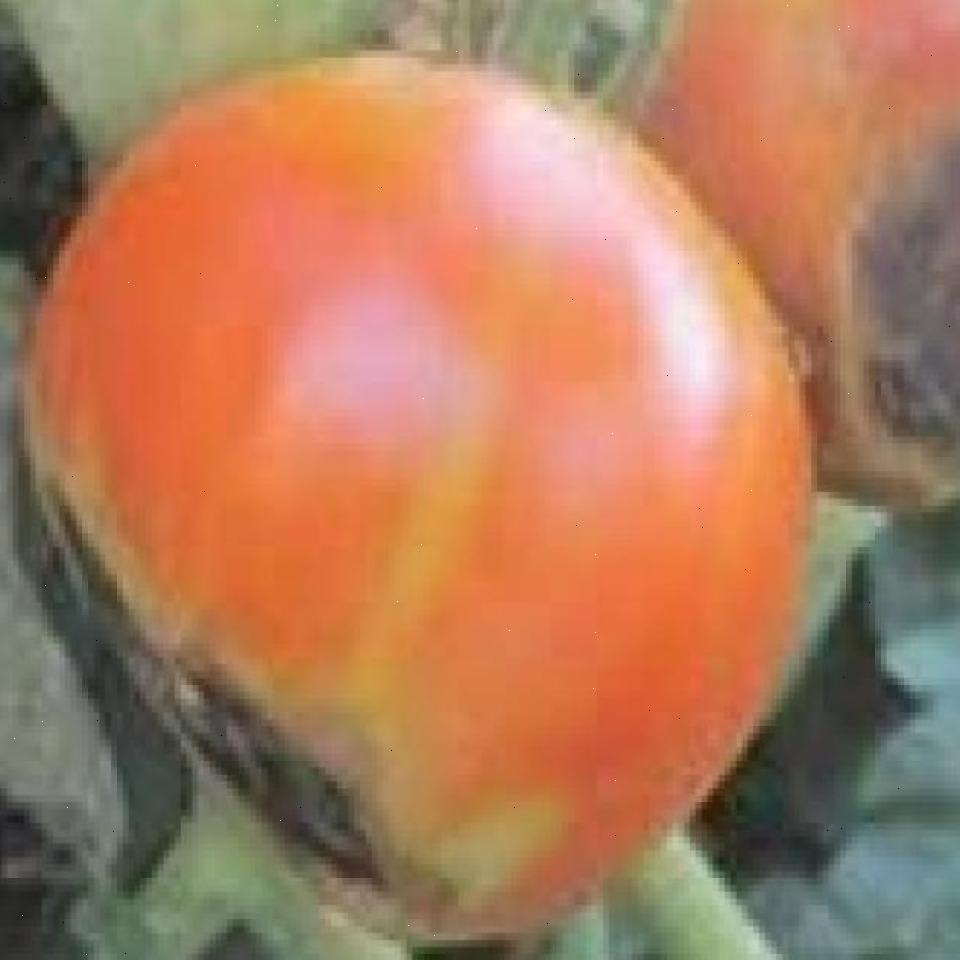Blossom_end_rot: (53, 468, 389, 888), (852, 110, 960, 468)
